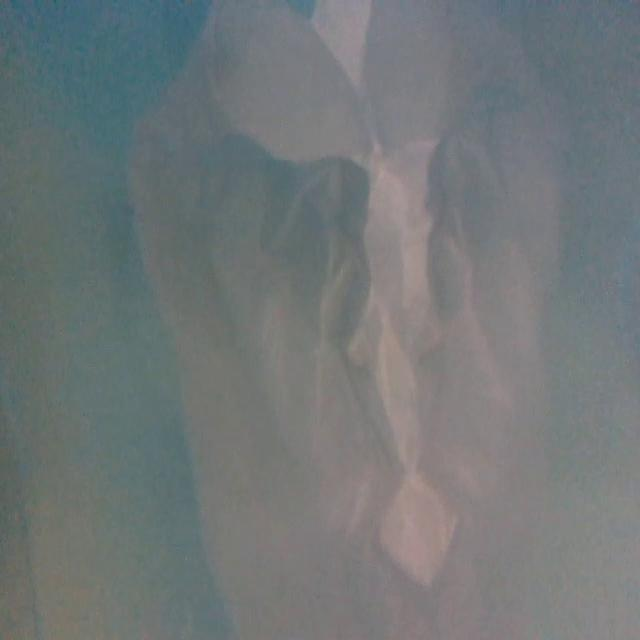plastic bags: (145, 1, 562, 632)
